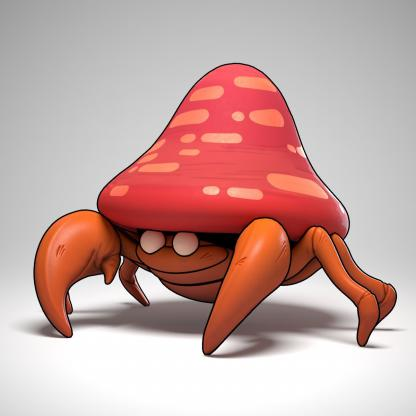Parasect: (48, 67, 416, 389)
